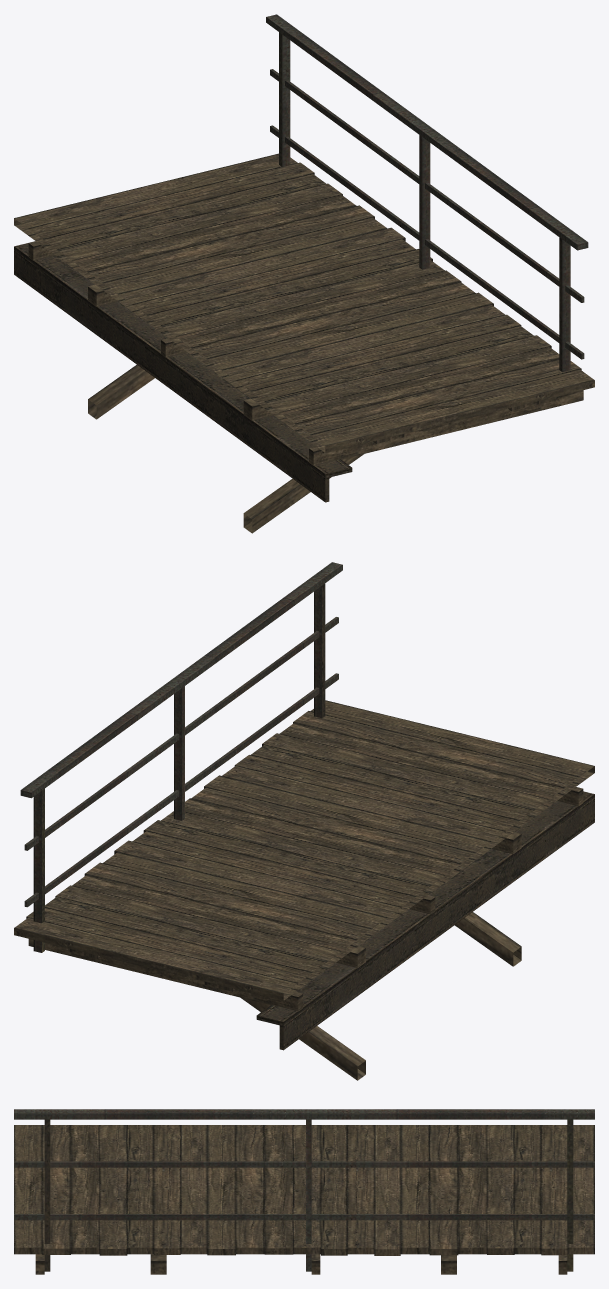
Rendered from platform_ax_2.obj.
3 views of the same model, one above another, from view 1: azimuth 30°, elevation 25°; view 2: azimuth 150°, elevation 25°; view 3: azimuth 270°, elevation 25° (orthographic). The views are drawn at different scales.
Visible parts, largest first — view 1: platform_ax_2; view 2: platform_ax_2; view 3: platform_ax_2.
Part boxes in pixels (left/top/right/bottom): platform_ax_2: left=14, top=14, right=594, bottom=533; platform_ax_2: left=14, top=562, right=594, bottom=1080; platform_ax_2: left=14, top=1109, right=594, bottom=1274.
Size of the model in its own units: 2.03 by 1.99 by 4.
